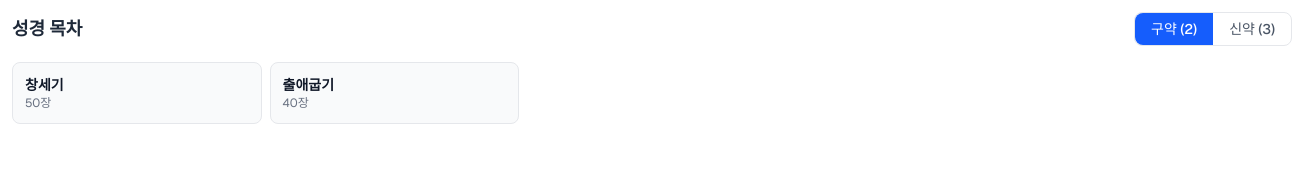
BookGrid › switches back to OT when OT tab is clicked
The width and height of the screenshot is (1304, 172).
Click the button "신약 (3)" at (1252, 29), box [1213, 13, 1291, 45]
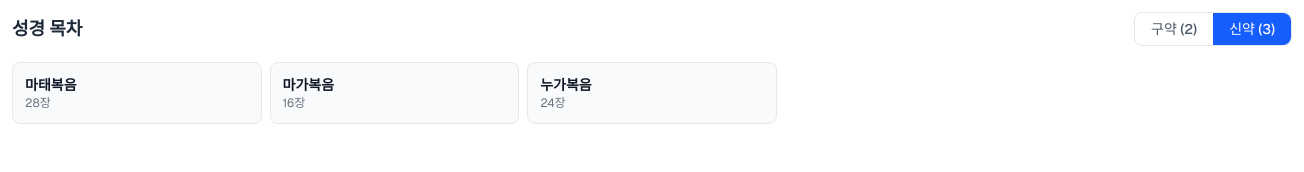
Click the button "구약 (2)" at (1174, 29), box [1135, 13, 1213, 45]
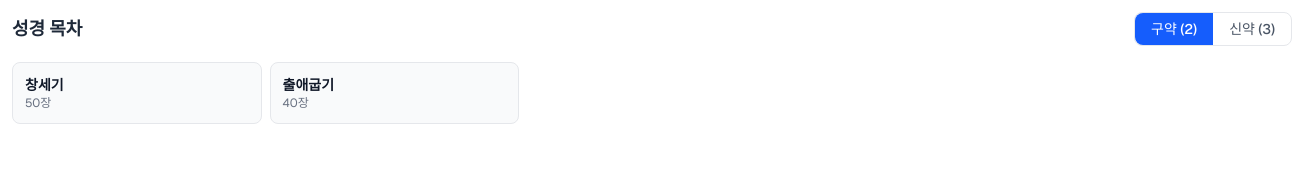
Expected: the text "창세기" is shown, [25, 76, 64, 94]
